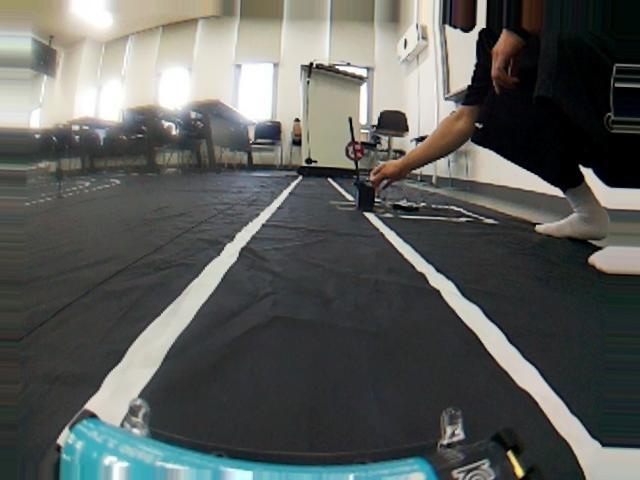sign_stop: (345, 138, 367, 163)
straight: (4, 213, 640, 480)
